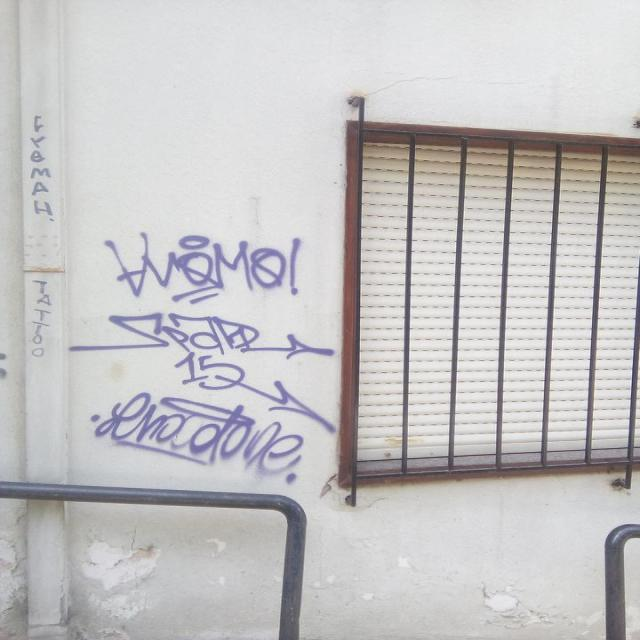nonspitting: (71, 229, 339, 484), (28, 109, 58, 225), (31, 280, 50, 360)
